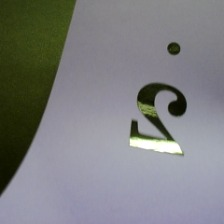violet2: (126, 40, 191, 165)
